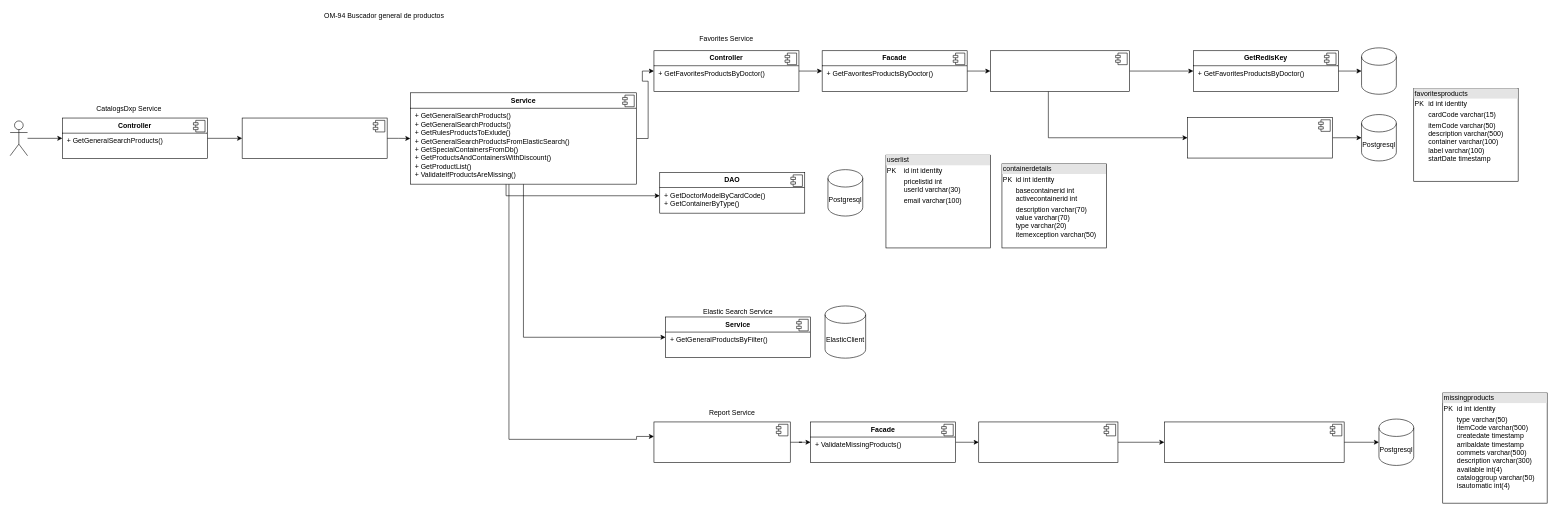
The diagram is 1557 pixels wide and 513 high, and some of its shapes have lost their labels. The shapes that lost their labels are listed below. From the top down, each one's centre as x and y in pixels, then its label:
At pixel 1060 70: "Service + GetFavoritesProductsByDoctor()".
At pixel 1378 70: "Redis".
At pixel 19 138: "Actor".
At pixel 314 138: "Facade + GetGeneralSearchProducts()".
At pixel 1260 137: "Dao + GetAllFavoritesProductsByCardCode()".
At pixel 721 442: "Controller + ValidateMissingProducts()".
At pixel 1048 442: "Service + ValidateMissingProducts() + GetArrivalDateByProductsActives()".
At pixel 1254 442: "DAO + GetMissingProductsByTypeAndItemsCode() + GetMissingProductsByType()".
